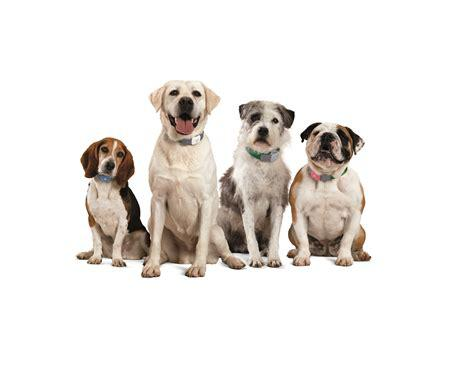dog: (141, 81, 244, 277), (220, 101, 295, 267), (287, 122, 371, 266), (77, 138, 149, 268)
